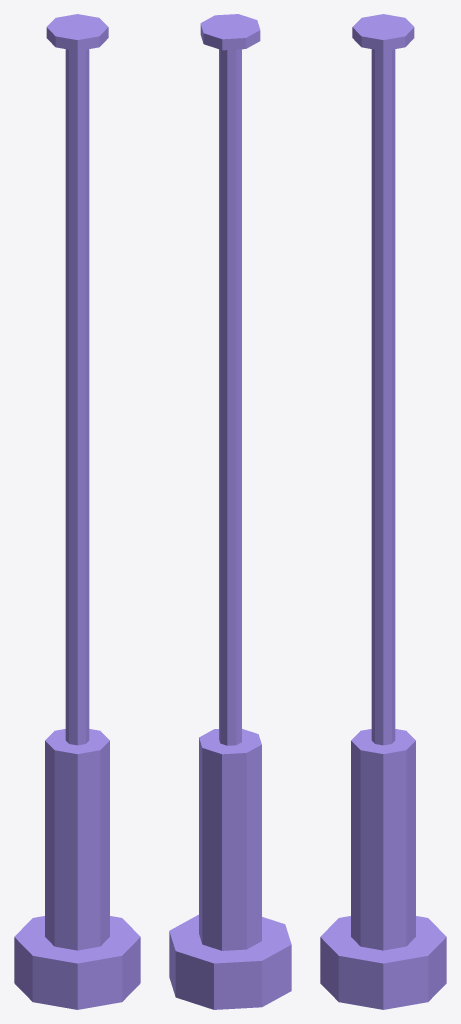
File: signpost_pole_3signs_a01.glb
The picture shows the model from 3 angles, left to right: view 1: azimuth 90°, elevation 25°; view 2: azimuth 210°, elevation 25°; view 3: azimuth 270°, elevation 25°; orthographic projection.
Parts seen in each view (by area): view 1: signpost 3; view 2: signpost 3; view 3: signpost 3.
Part boxes in pixels (box(x1,y1,x2,y2)): signpost 3: box(14, 14, 140, 1009); signpost 3: box(169, 14, 291, 1009); signpost 3: box(320, 14, 446, 1009).
Size of the model in its own units: 0.9934 by 8.29 by 0.9934.
